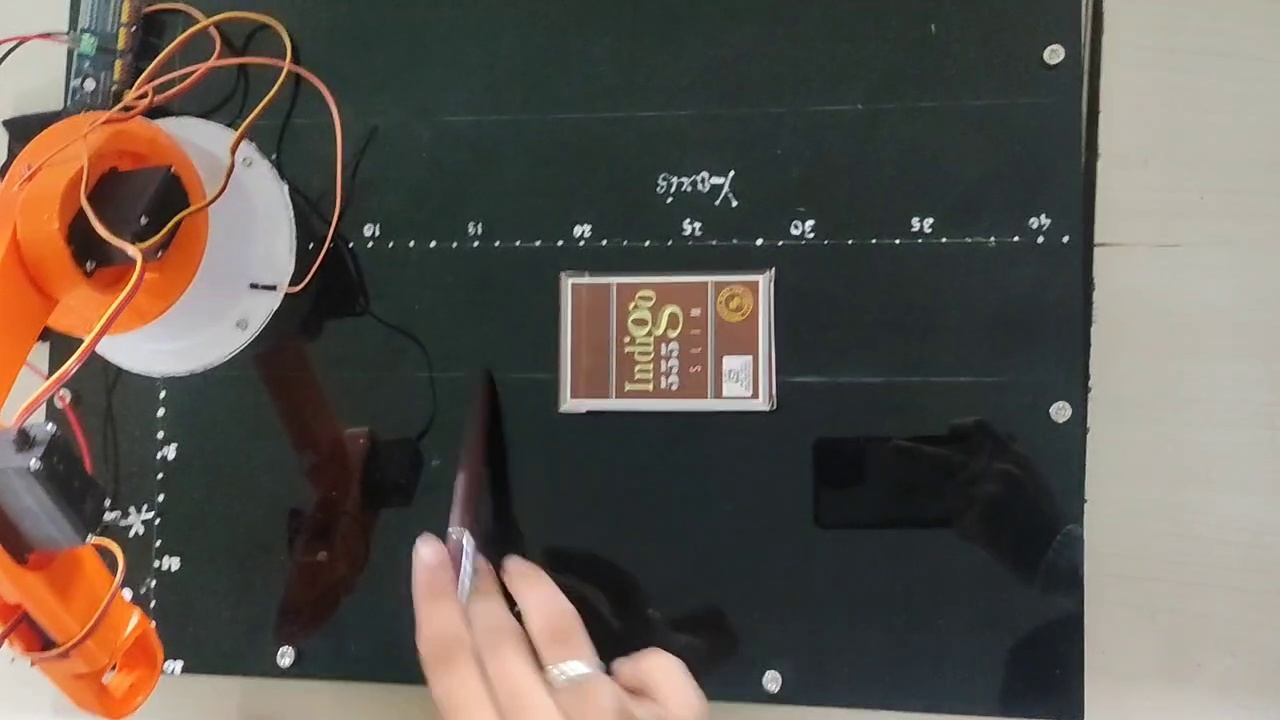BEX: (564, 278, 761, 402)
